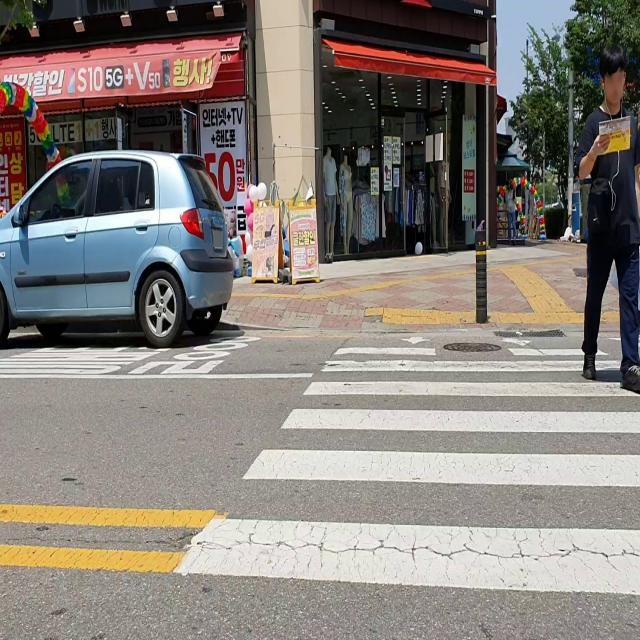횡단보도: (172, 328, 640, 603)
